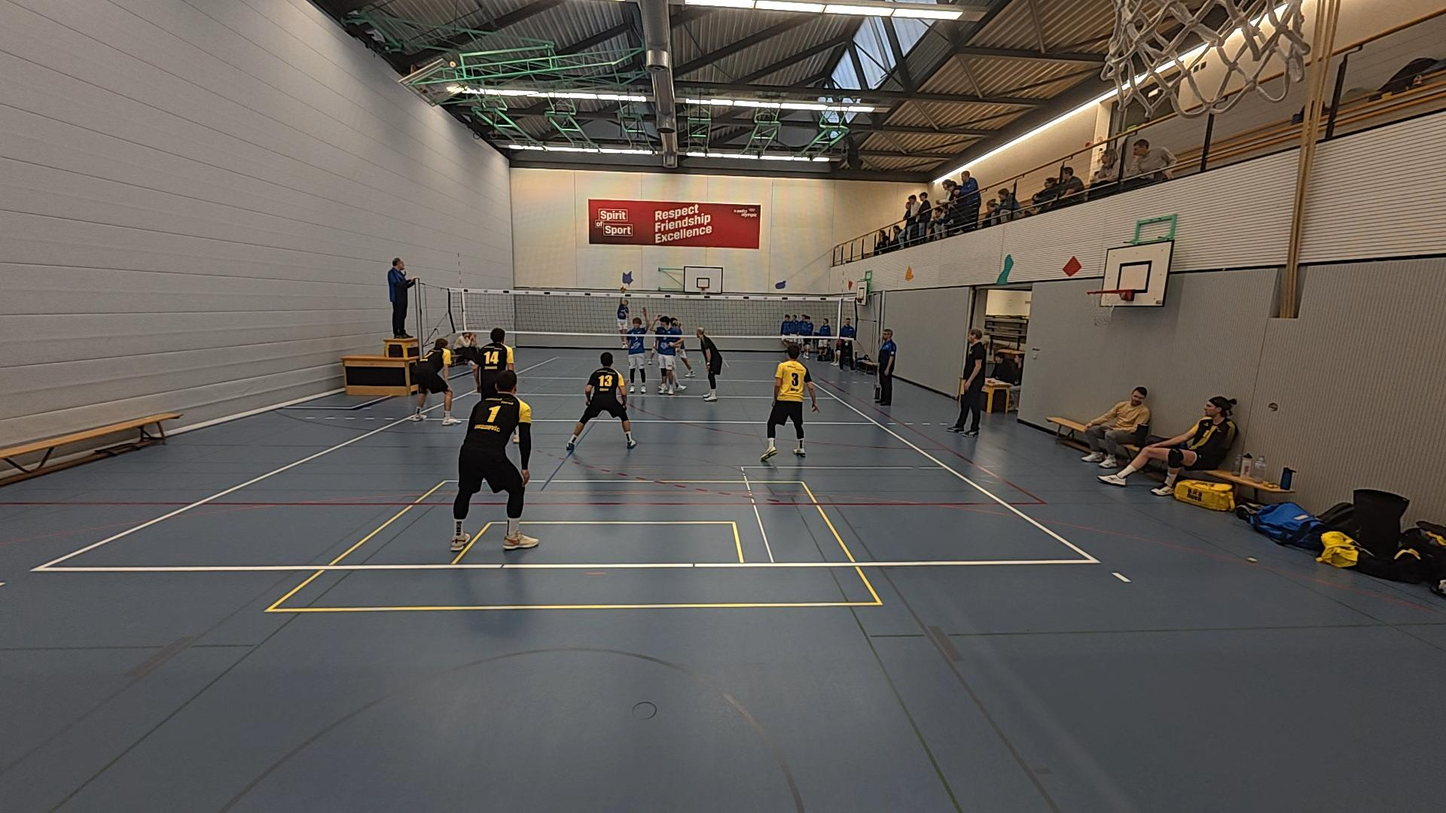battuta: (614, 277, 634, 351)
